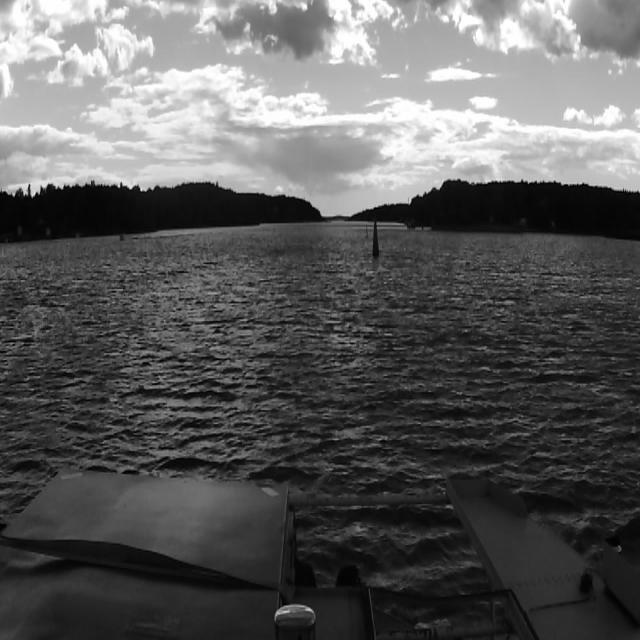buoy: (373, 222, 379, 257)
